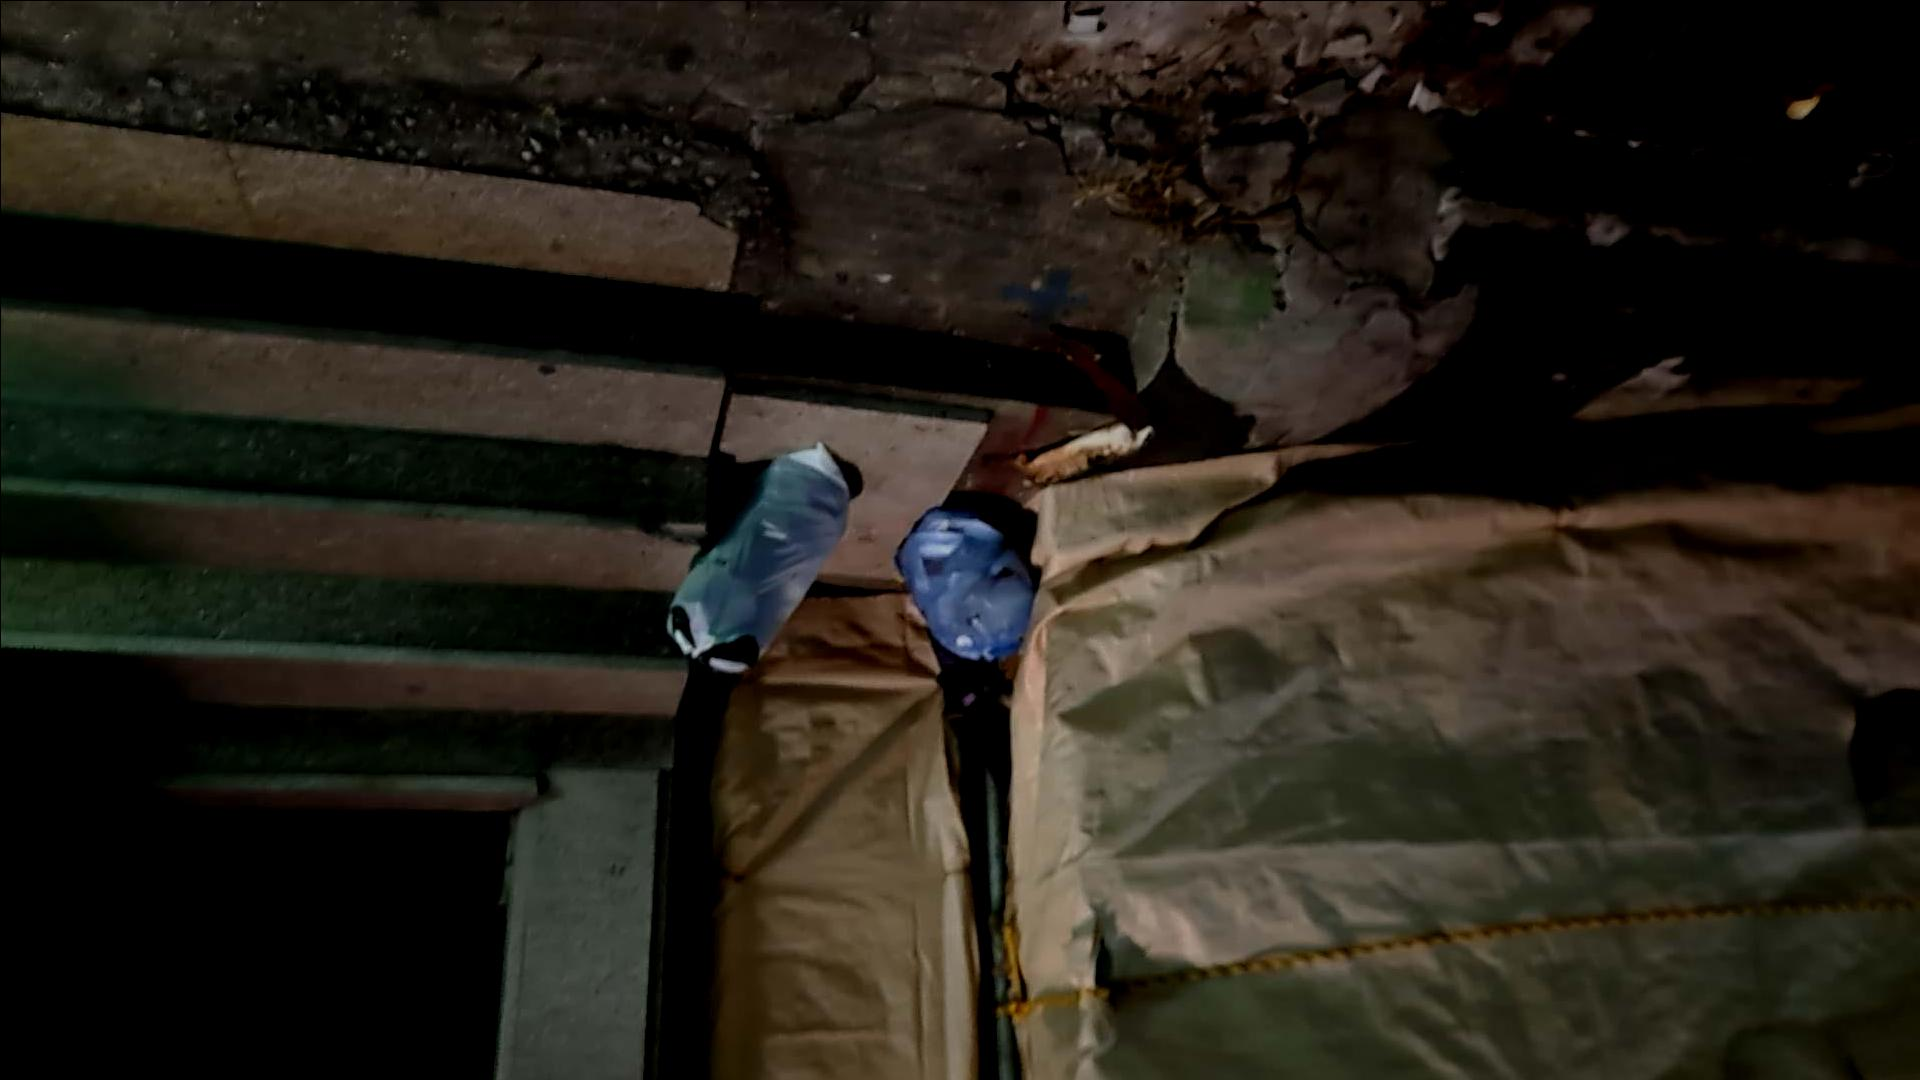white_bag: (659, 429, 870, 698), (884, 491, 1047, 675)
